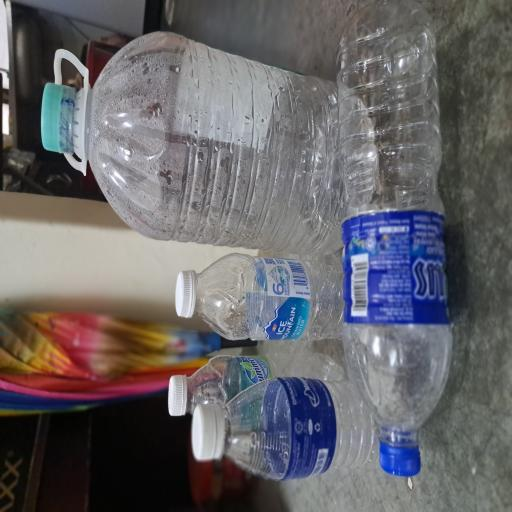plastic bottle: (197, 86, 362, 504), (54, 451, 363, 512), (23, 296, 102, 509), (129, 257, 194, 458), (73, 251, 120, 460)
plastic bottle cap: (38, 255, 81, 296), (269, 55, 322, 86), (72, 223, 103, 250), (146, 233, 182, 256)
